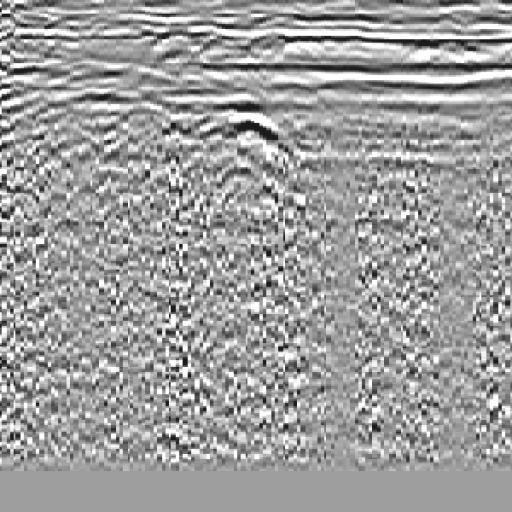metalic: (166, 63, 340, 215)
